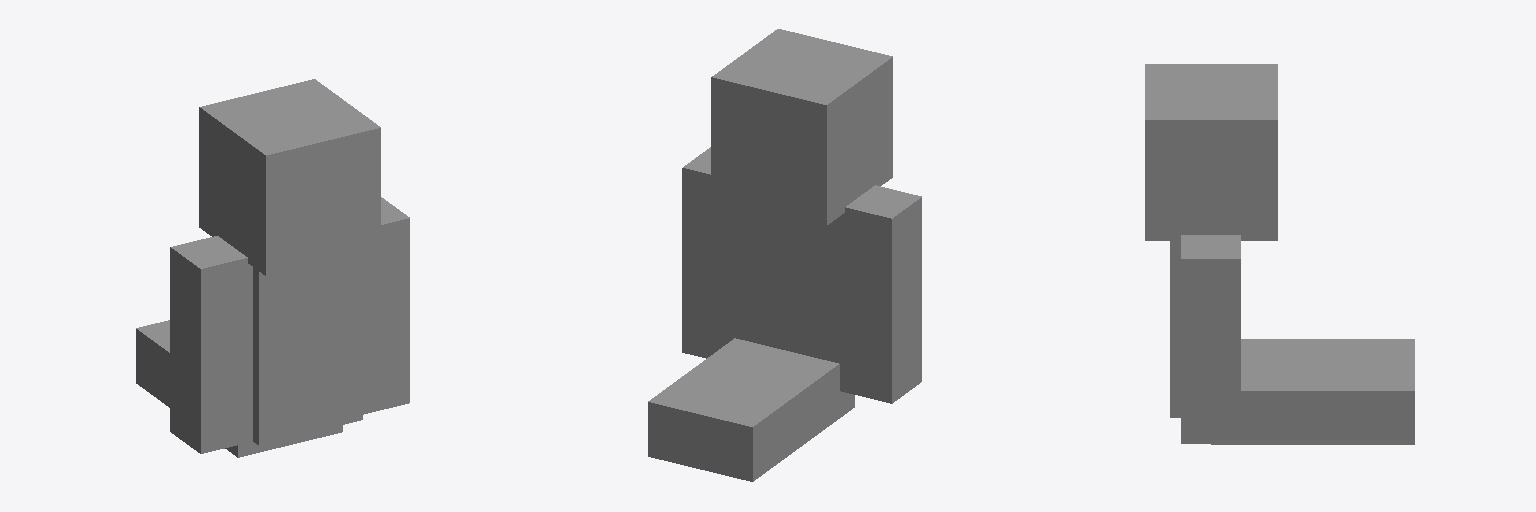
The model's file is character2.obj.
The picture shows the model from 3 angles: view 1: azimuth 30°, elevation 25°; view 2: azimuth 150°, elevation 25°; view 3: azimuth 270°, elevation 25°; orthographic projection.
Visible parts, largest first — view 1: Player_Cube; view 2: Player_Cube; view 3: Player_Cube.
Boxes of the visible parts, box(x1,y1,x2,y2) form: Player_Cube: box(136, 79, 409, 457); Player_Cube: box(648, 29, 921, 481); Player_Cube: box(1145, 64, 1414, 444).
Bounding box in the file's own units: 0.8061 × 1.2 × 0.9018.